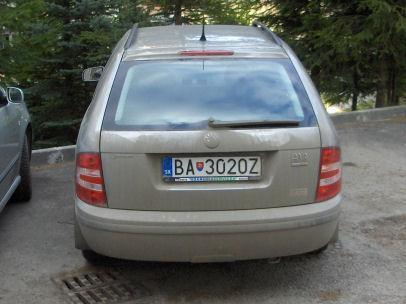placa de veiculo: (159, 153, 265, 181)
